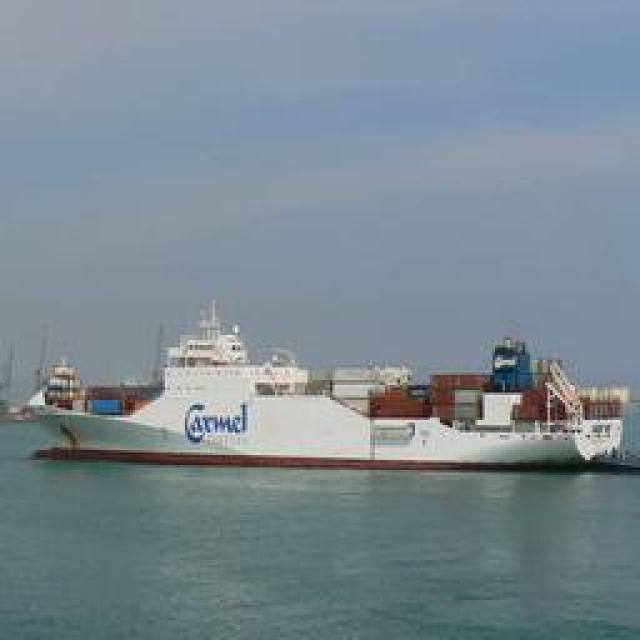Ship: (13, 337, 631, 477)
